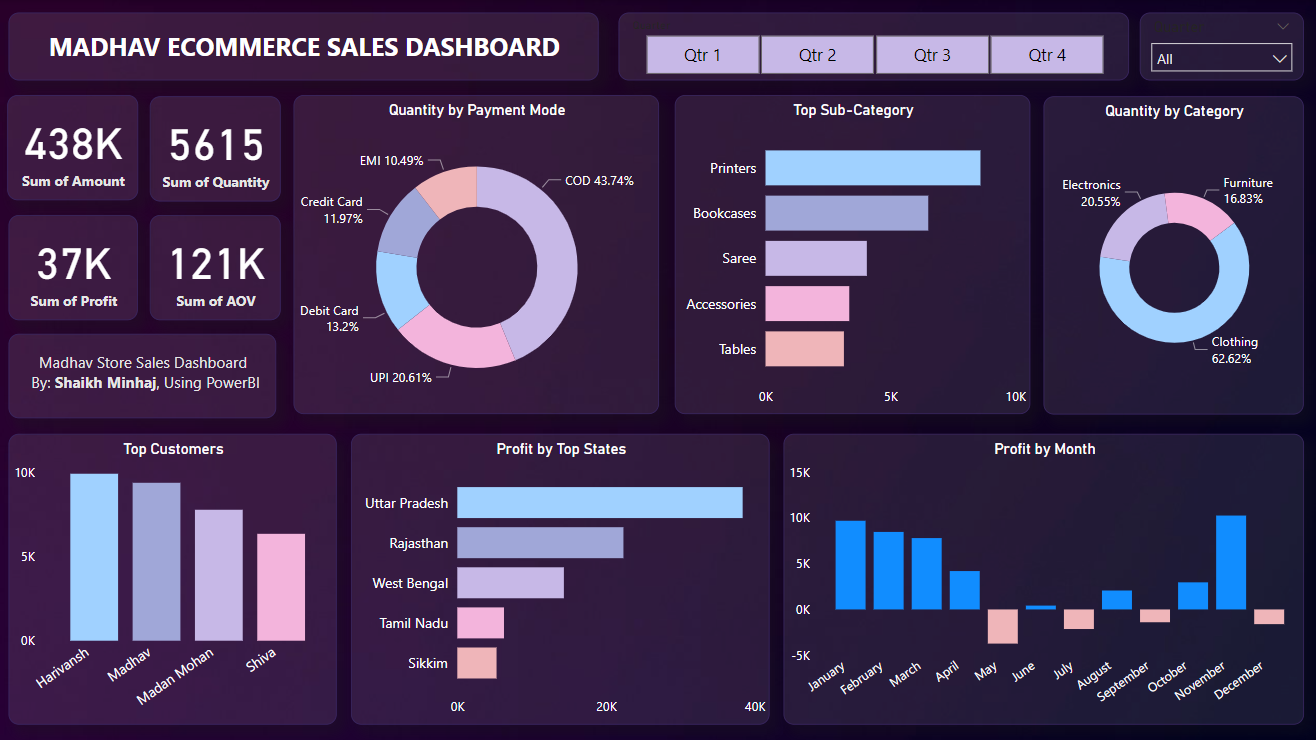

What the dashboard file says about the page in this screenshot:
{"tool":"powerbi","page":{"name":"Page 1","canvas":[1280,720],"ordinal":0},"visuals":[{"type":"textbox","box":[12.5,12.5,569.4,65.3],"z":0},{"type":"columnChart","title":"Profit by Month","fields":{"Category":["Orders.Order Date.Variation.Date Hierarchy.Month"],"Y":["Details.Profit"]},"box":[759.7,418.1,502.8,280.6],"z":1000},{"type":"barChart","title":"Top Sub-Category","fields":{"Category":["Details.Sub-Category"],"Y":["Details.Profit"]},"box":[655.6,91.7,343.1,308.3],"z":2000},{"type":"donutChart","title":"Quantity by Category","fields":{"Category":["Details.Category"],"Y":["Details.Quantity"]},"box":[1011.1,93.1,251.4,306.9],"z":3000},{"type":"donutChart","title":"Quantity by Payment Mode","fields":{"Category":["Details.PaymentMode"],"Y":["Details.Quantity"]},"box":[287.5,91.7,352.8,308.3],"z":4000},{"type":"card","fields":{"Values":["Details.Average Order Value"]},"box":[148.6,206.9,126.4,101.4],"z":5000},{"type":"card","fields":{"Values":["Details.Quantity"]},"box":[148.6,93.1,126.4,101.4],"z":6000},{"type":"card","fields":{"Values":["Details.Profit"]},"box":[12.5,206.9,125,101.4],"z":7000},{"type":"card","fields":{"Values":["Details.Amount"]},"box":[11.1,91.7,126.4,101.4],"z":8000},{"type":"barChart","title":"Profit by Top States","fields":{"Category":["Orders.State"],"Y":["Details.Amount"]},"box":[343.1,418.1,404.2,280.6],"z":9000},{"type":"columnChart","title":"Top Customers","fields":{"Category":["Orders.CustomerName"],"Y":["Details.Amount"]},"box":[12.5,418.1,316.7,280.6],"z":10000},{"type":"textbox","box":[12.5,322.2,258.3,81.9],"z":11000},{"type":"slicer","fields":{"Values":["Orders.Order Date.Variation.Date Hierarchy.Quarter"]},"box":[601.4,12.5,493.1,65.3],"z":12000},{"type":"slicer","fields":{"Values":["Orders.Order Date.Variation.Date Hierarchy.Quarter"]},"box":[1104.2,12.5,158.3,65.3],"z":13000}]}

Visuals, with their boxes in screenshot pixels (x1, y1, x2, y2), scaled from the page's 1280x720 canvas onto the 1316x740 screenshot:
textbox: <region>13, 13, 598, 80</region>
"Profit by Month" columnChart: <region>781, 430, 1298, 718</region>
"Top Sub-Category" barChart: <region>674, 94, 1027, 411</region>
"Quantity by Category" donutChart: <region>1040, 96, 1298, 411</region>
"Quantity by Payment Mode" donutChart: <region>296, 94, 658, 411</region>
card - Details.Average Order Value: <region>153, 213, 283, 317</region>
card - Details.Quantity: <region>153, 96, 283, 200</region>
card - Details.Profit: <region>13, 213, 141, 317</region>
card - Details.Amount: <region>11, 94, 141, 198</region>
"Profit by Top States" barChart: <region>353, 430, 768, 718</region>
"Top Customers" columnChart: <region>13, 430, 338, 718</region>
textbox: <region>13, 331, 278, 415</region>
slicer - Orders.Order Date.Variation.Date Hierarchy.Quarter: <region>618, 13, 1125, 80</region>
slicer - Orders.Order Date.Variation.Date Hierarchy.Quarter: <region>1135, 13, 1298, 80</region>
